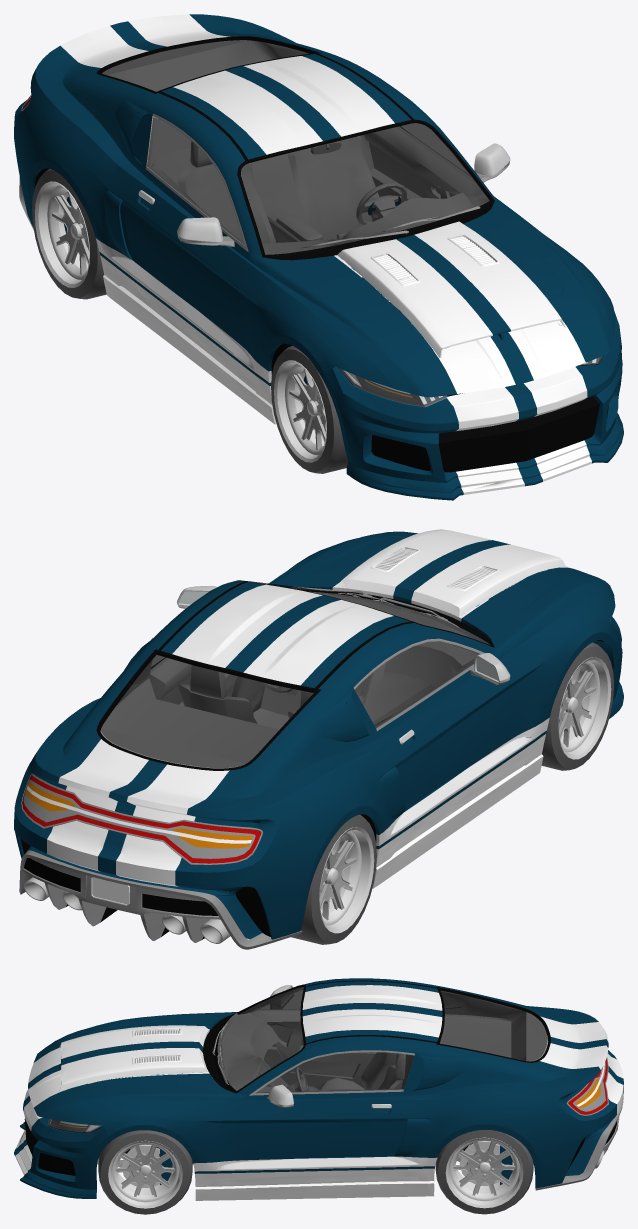
Rendered from car_vapid.glb.
3 renders of one model, top to bottom at view 1: azimuth 30°, elevation 25°; view 2: azimuth 150°, elevation 25°; view 3: azimuth 270°, elevation 25°, orthographic. The views are drawn at different scales.
Parts seen in each view (by area): view 1: Material3 (×33), Material2 (×10); view 2: Material3 (×30), Material2 (×8); view 3: Material3 (×31), Material2 (×10).
Boxes of the visible parts, x1,y1,x2,y2 form: Material3 (×33): [34, 14, 622, 493]; Material2 (×10): [14, 16, 623, 500]; Material3 (×30): [22, 529, 622, 939]; Material2 (×8): [14, 538, 615, 949]; Material3 (×31): [17, 980, 623, 1208]; Material2 (×10): [14, 978, 623, 1214].
Size of what is drawn, in the model's own units: 274 by 181 by 616.
